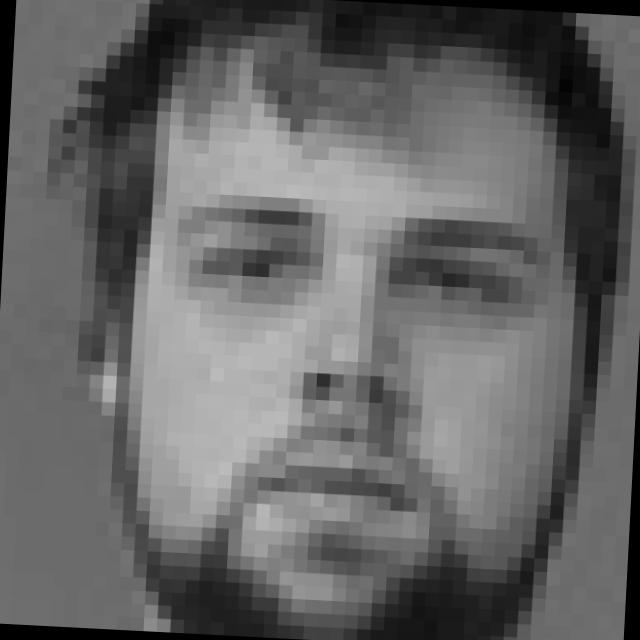neutral: (136, 177, 564, 556)
